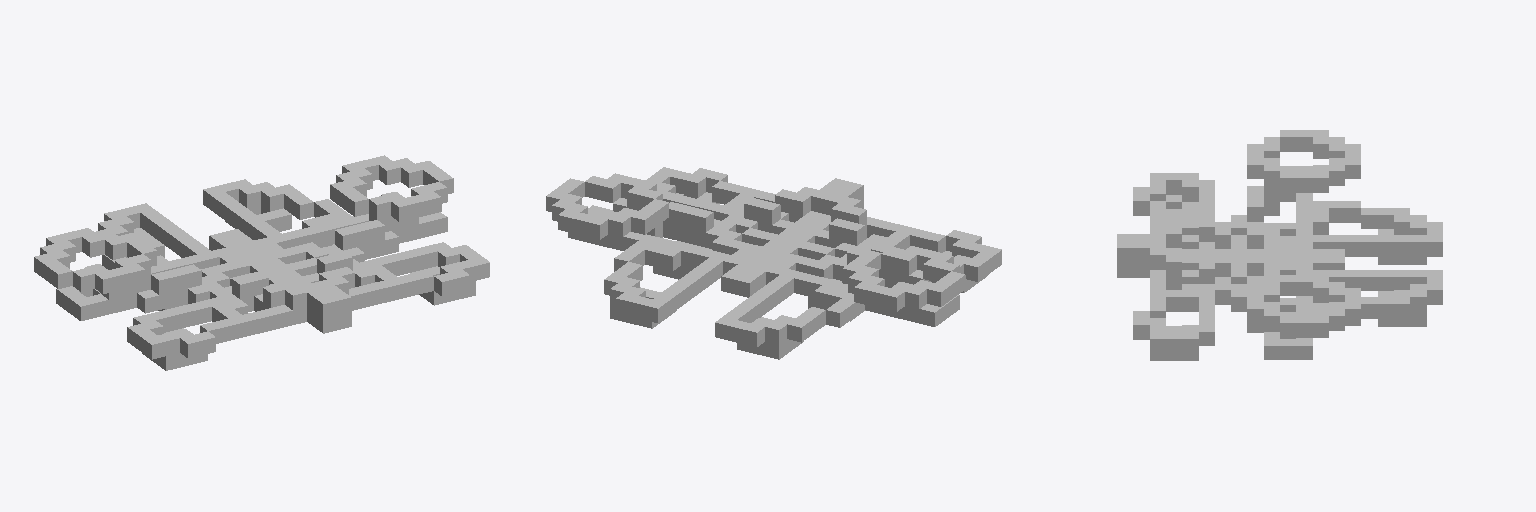
The model's file is space ship 4.obj.
3 renders of one model, left to right at view 1: azimuth 30°, elevation 25°; view 2: azimuth 150°, elevation 25°; view 3: azimuth 270°, elevation 25°, orthographic.
Size of the model in its own units: 28 by 4 by 20.